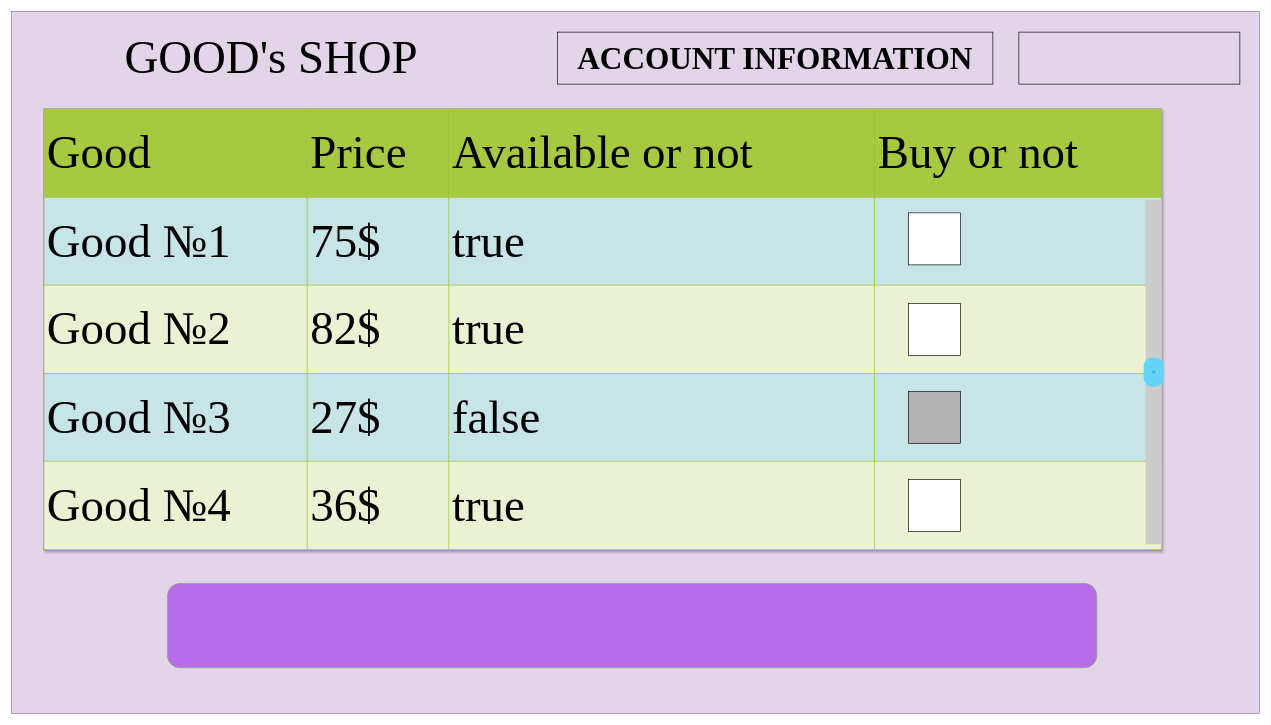
Image size: 1271x725. Some labels were removed from this diagram. Each missing label, with the centre of its shape:
CONFIRM AND GO TO THE ORDER PREPAIRING: (x=632, y=625)
SIGN OUT: (x=1129, y=57)
